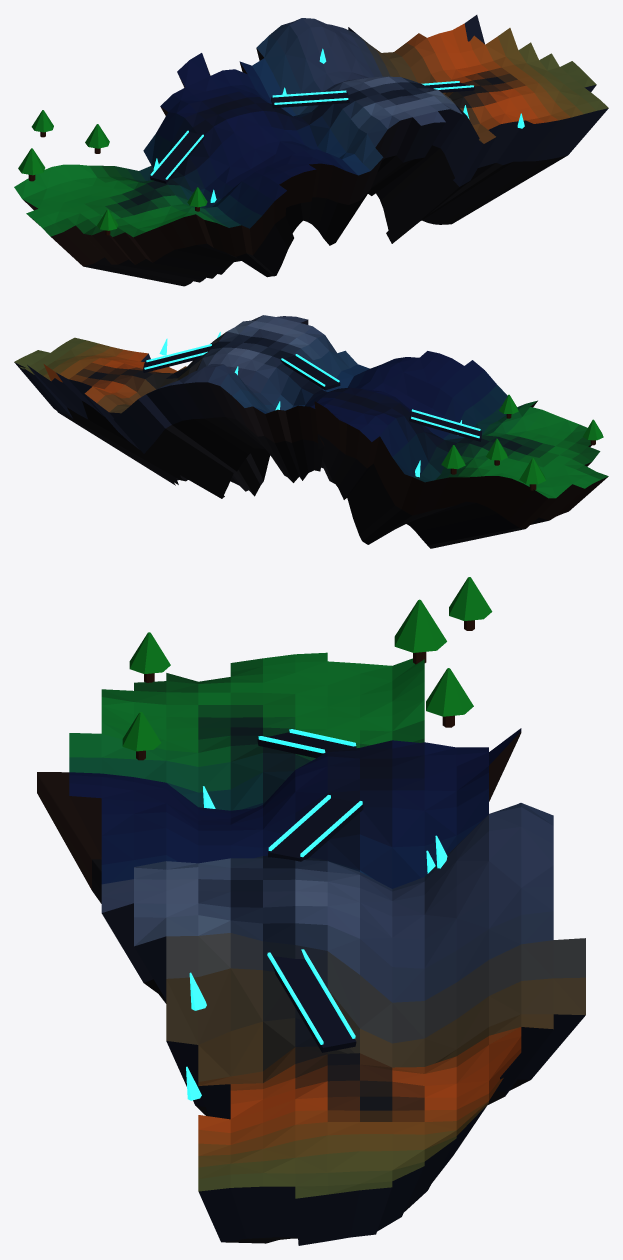
File: massive_space_island_world.glb
The picture shows the model from 3 angles, top to bottom: view 1: azimuth 30°, elevation 25°; view 2: azimuth 150°, elevation 25°; view 3: azimuth 270°, elevation 25°; orthographic projection. The views are drawn at different scales.
Parts seen in each view (by area): view 1: SpaceTerraIsland; view 2: SpaceTerraIsland; view 3: SpaceTerraIsland.
Boxes of the visible parts, x1,y1,x2,y2 form: SpaceTerraIsland: (14,15,608,286); SpaceTerraIsland: (14,315,608,548); SpaceTerraIsland: (37,577,585,1245).
Bounding box in the file's own units: 30.8 × 9.69 × 13.2.
